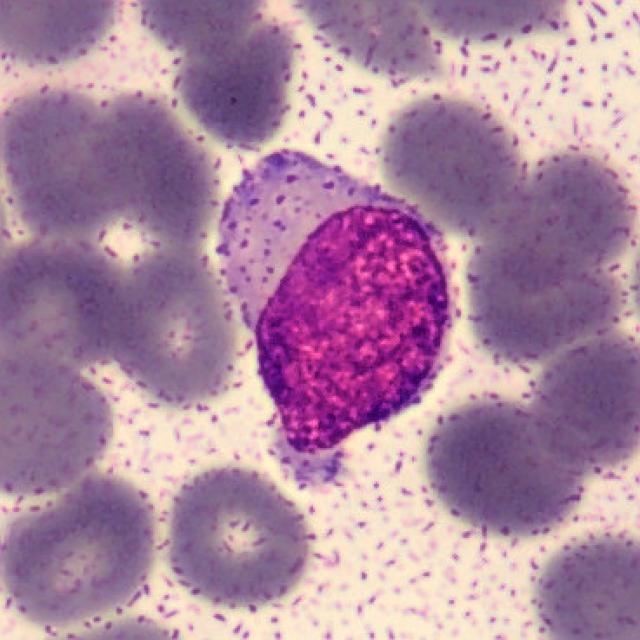Mieloblasto: (216, 149, 459, 455)
